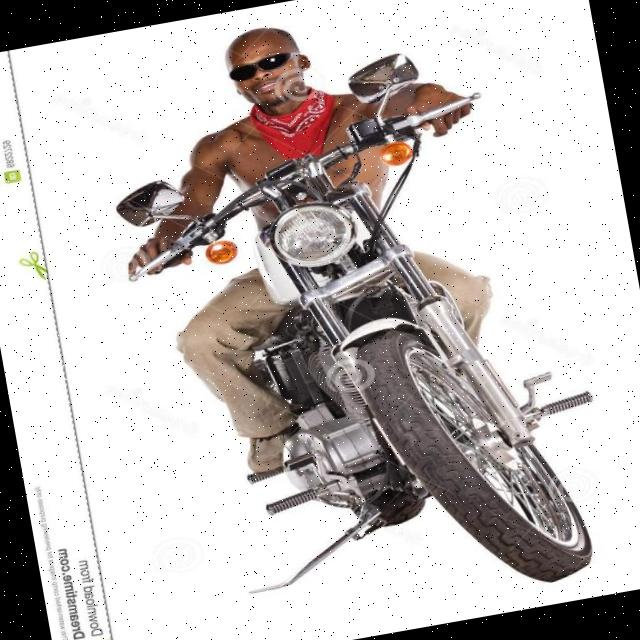No helmet: (202, 12, 334, 133)
